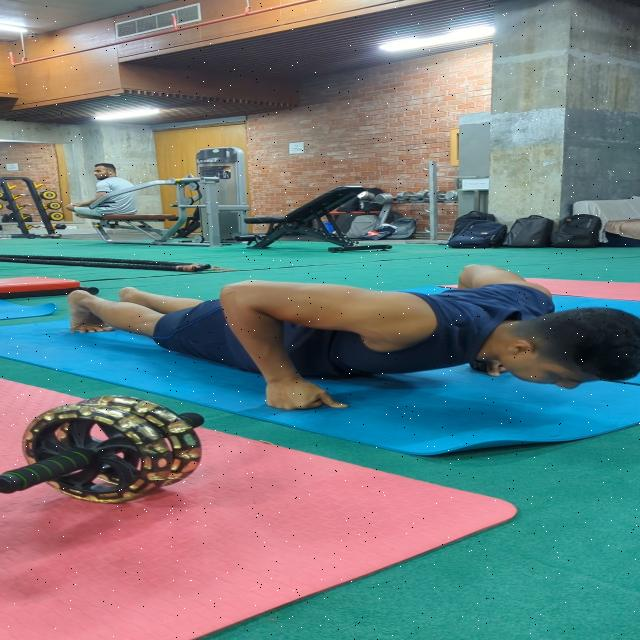Normal_PushUps: (41, 262, 640, 416)
